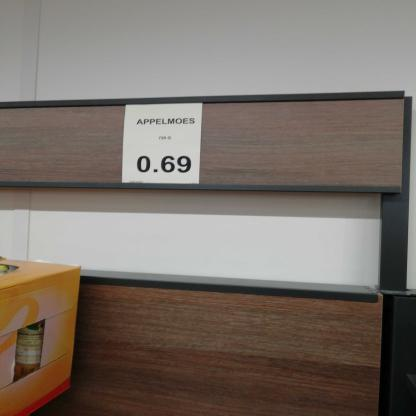prtg: (123, 104, 204, 185)
